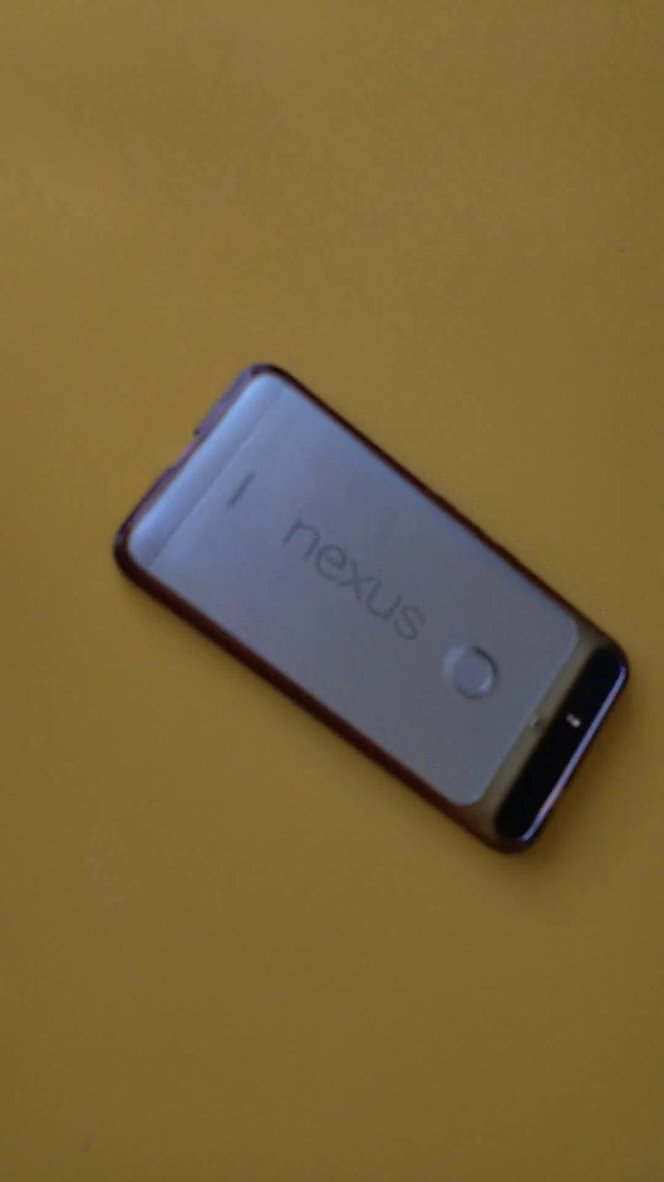phone: (103, 344, 649, 867)
